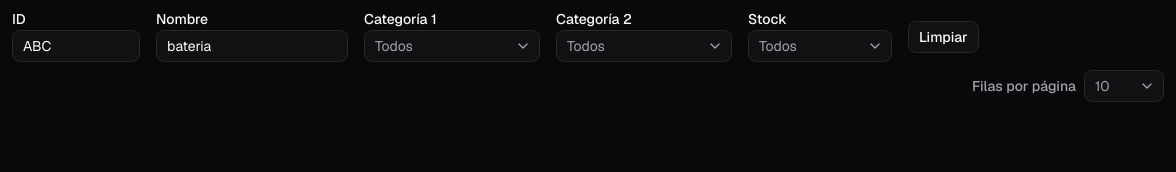
Test: InventoryFilters — Limpiar goes through the shared writer › empties both text boxes
This screenshot has width=1176, height=172.
Click the button "Limpiar" at (943, 37), box top-left (908, 21), bottom-right (979, 53)
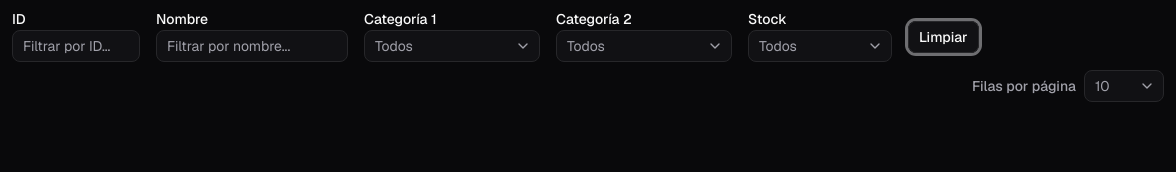
Expected: the field labelled "ID" is empty, top-left (12, 30), bottom-right (140, 62)
Expected: the field labelled "Nombre" is empty, top-left (156, 30), bottom-right (348, 62)
